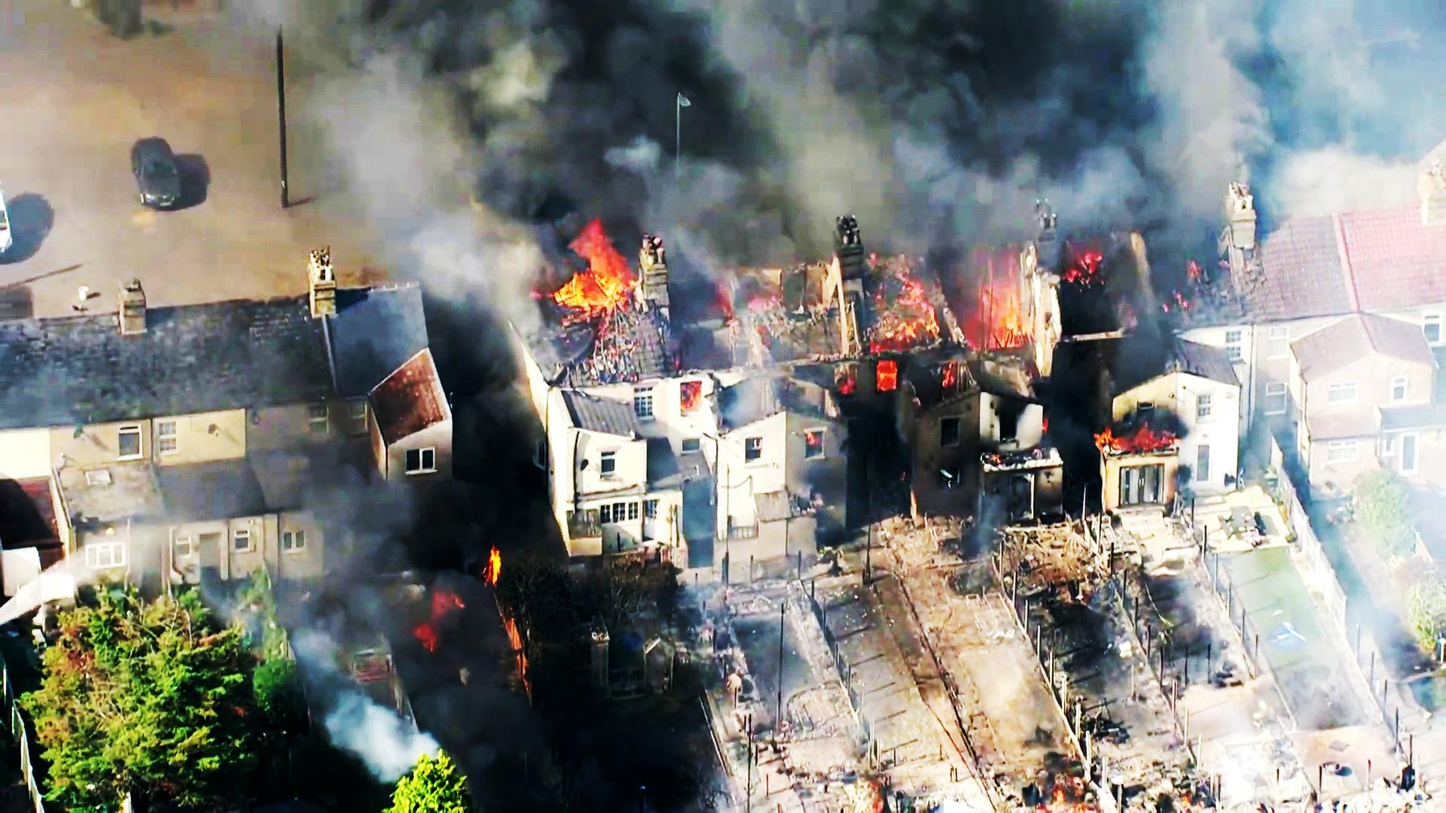fire: (565, 215, 641, 306), (968, 269, 1043, 354)
smoke: (770, 0, 1246, 211), (1051, 0, 1446, 213), (464, 0, 810, 198)
